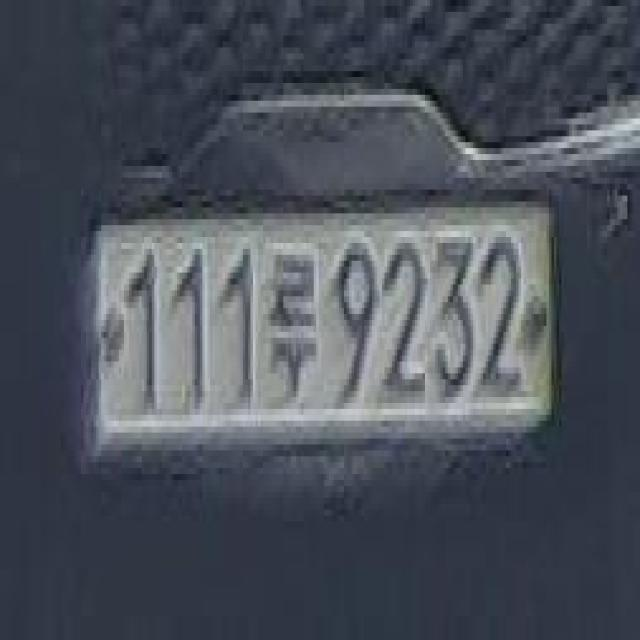illegal_plate: (94, 180, 556, 476)
